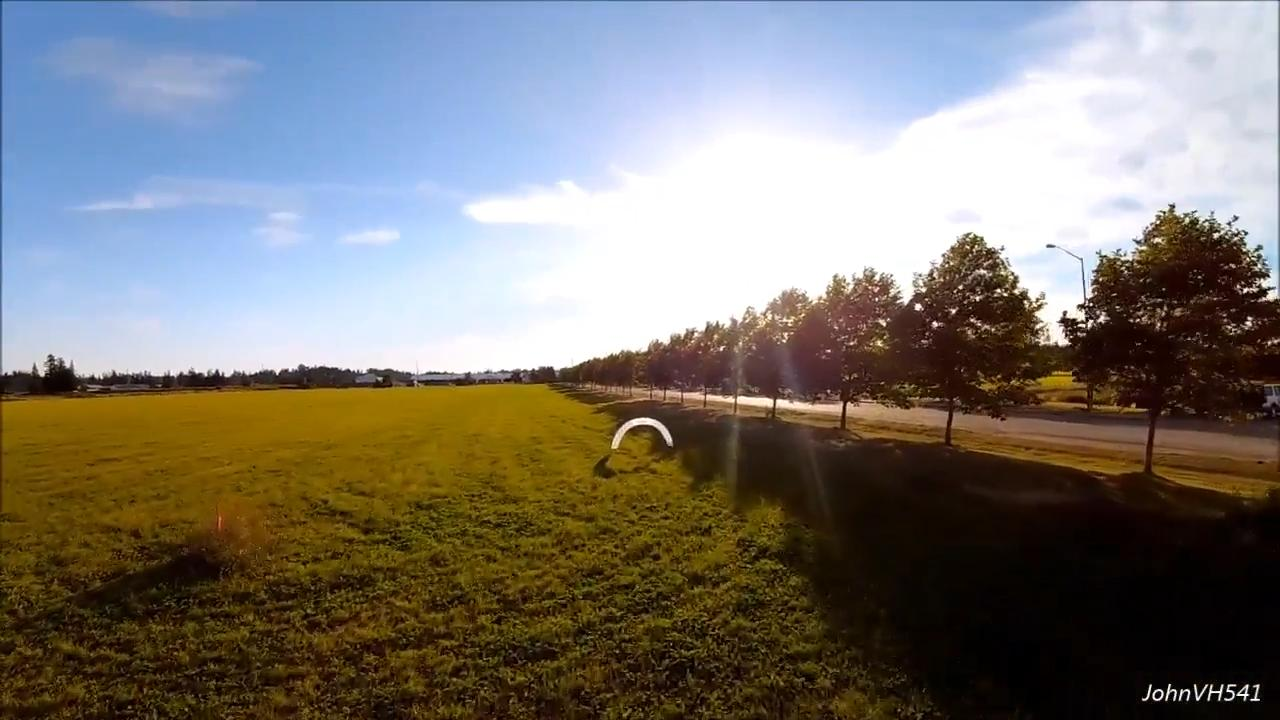gate: (610, 415, 673, 454)
